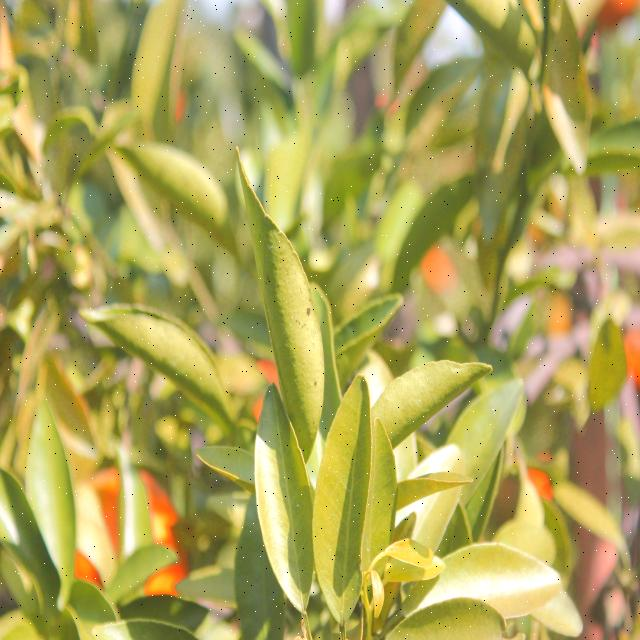melanose: (247, 187, 325, 438)
